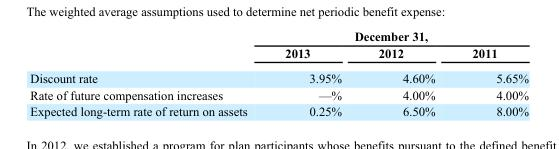table: (29, 29, 528, 117)
table column: (29, 29, 265, 117), (265, 29, 359, 117), (359, 29, 453, 117), (453, 29, 528, 117)
table column header: (29, 29, 528, 65)
table row: (29, 44, 528, 65), (29, 65, 528, 86), (29, 86, 528, 102), (29, 29, 528, 44), (29, 102, 528, 117)
table spanning cell: (265, 29, 528, 44)
